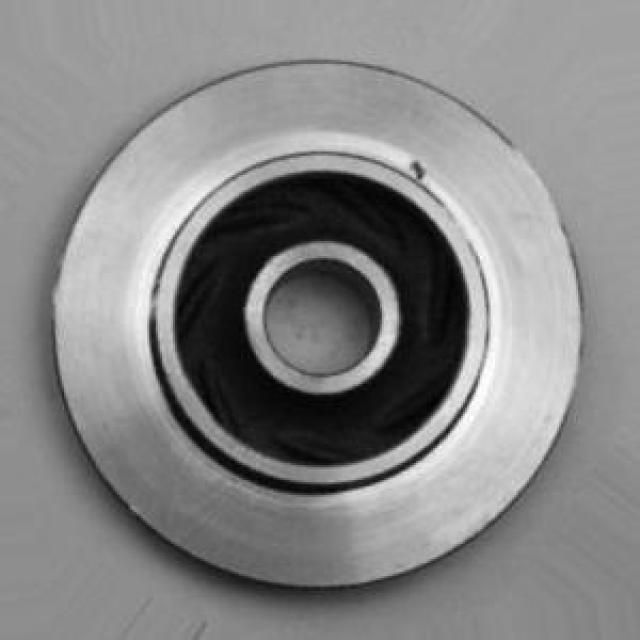Defect: (405, 153, 435, 192)
